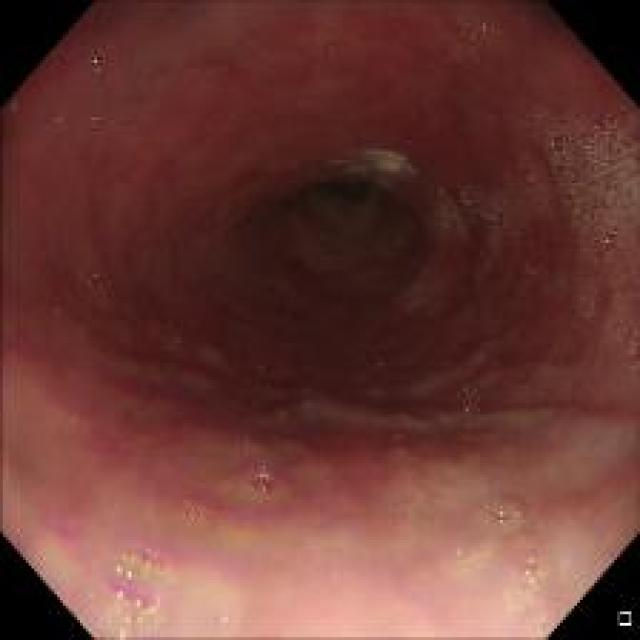bubbles: (520, 100, 632, 315), (428, 174, 561, 249), (484, 492, 544, 626), (89, 542, 171, 625), (169, 482, 215, 538), (244, 458, 288, 496), (306, 34, 336, 55)
color misalignment: (112, 549, 162, 611), (255, 461, 270, 492), (524, 545, 536, 576), (494, 500, 506, 525)
contrast: (149, 111, 500, 384)
